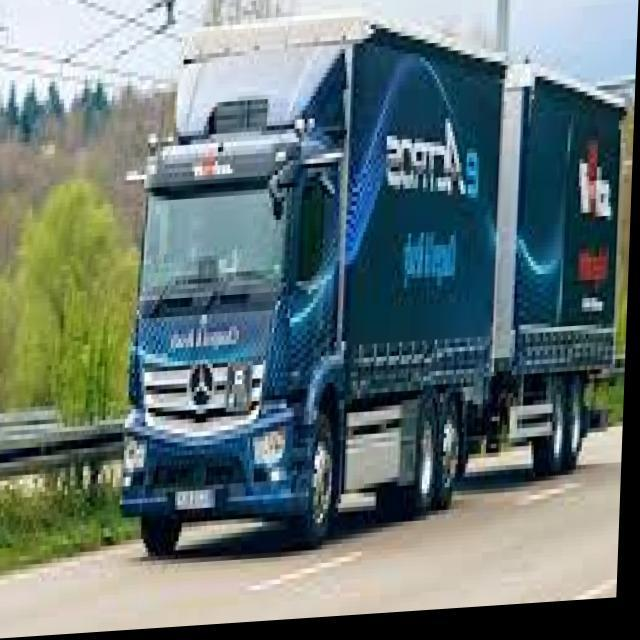covered: (117, 0, 637, 561)
